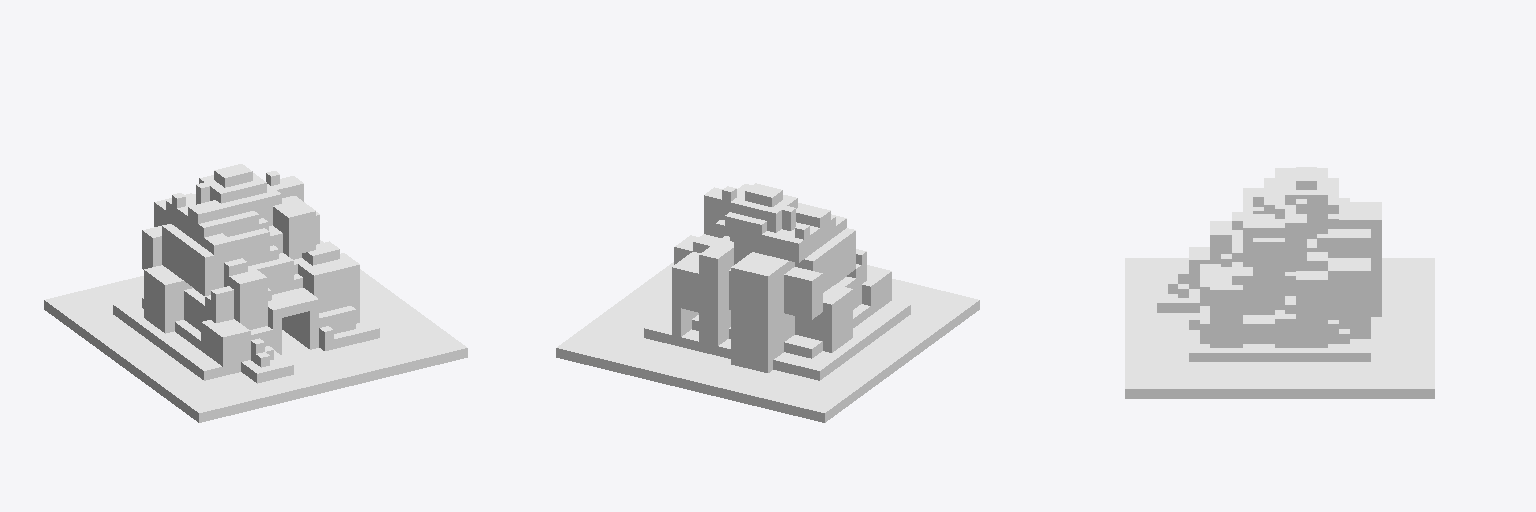
File: GoldMine-0.obj
3 renders of one model, left to right at view 1: azimuth 30°, elevation 25°; view 2: azimuth 150°, elevation 25°; view 3: azimuth 270°, elevation 25°, orthographic.
Visible parts, largest first — view 1: object 1; view 2: object 1; view 3: object 1.
Part boxes in pixels (x1,y1,x2,y2): object 1: (44,164,467,422); object 1: (556,183,979,422); object 1: (1125,167,1434,398).
Bounding box in the file's own units: 2.9 × 1.6 × 2.9.